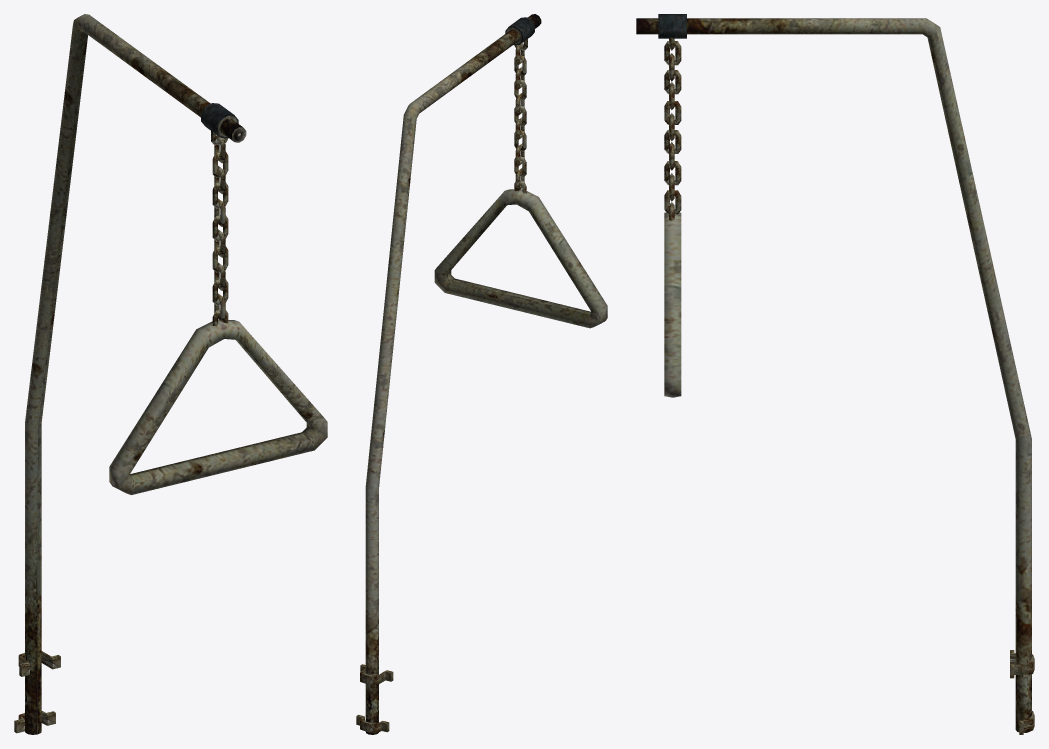
The model's file is hbed01_part03_obj_uni17_ag.obj.
3 renders of one model, left to right at view 1: azimuth 30°, elevation 25°; view 2: azimuth 150°, elevation 25°; view 3: azimuth 270°, elevation 25°, orthographic. The views are drawn at different scales.
Parts seen in each view (by area): view 1: hbed01_part03_obj_uni17_ag; view 2: hbed01_part03_obj_uni17_ag; view 3: hbed01_part03_obj_uni17_ag.
Boxes of the visible parts, <box> form: hbed01_part03_obj_uni17_ag: <box>14,14,327,734</box>; hbed01_part03_obj_uni17_ag: <box>356,14,607,734</box>; hbed01_part03_obj_uni17_ag: <box>636,14,1034,734</box>.
Bounding box in the file's own units: 42.68 × 146 × 73.67.
1 material, 1 textured.
